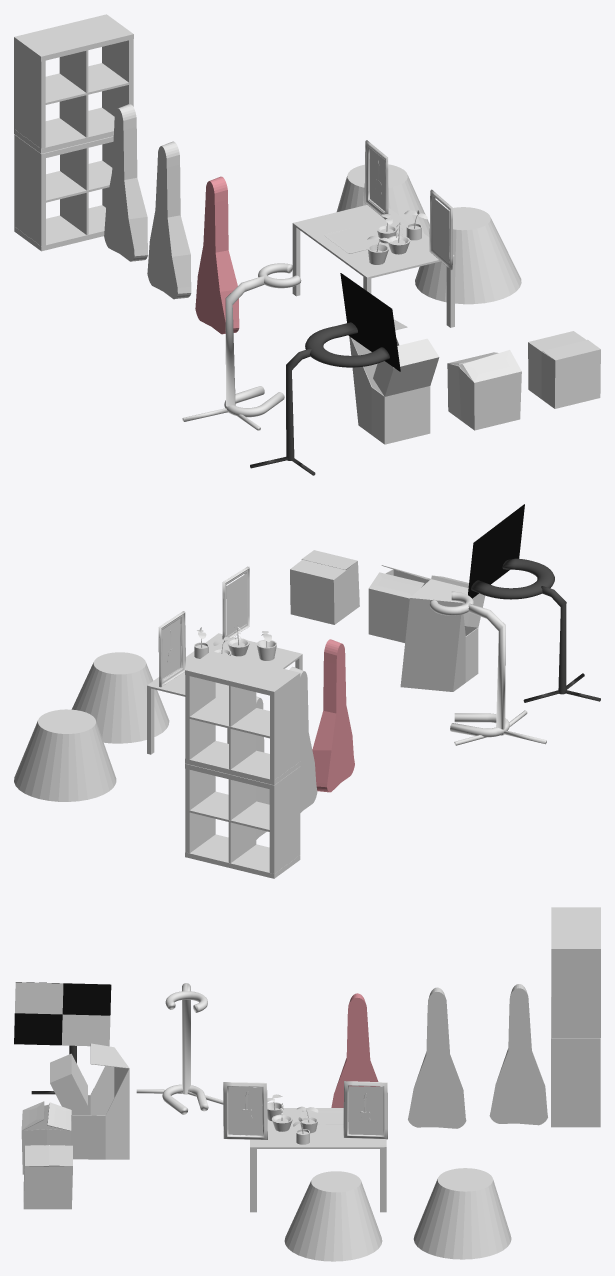
File: JAM1 Model.fbx
3 renders of one model, top to bottom at view 1: azimuth 30°, elevation 25°; view 2: azimuth 150°, elevation 25°; view 3: azimuth 270°, elevation 25°, orthographic. The views are drawn at different scales.
Parts seen in each view (by area): view 1: Shelf.001, BOX1, CHAIR, Music Stand, Cube, box2, CASE2, CASE3, Box3, case1, Guitar Stand, CHAIR.2 (+3 smaller); view 2: Shelf.001, CHAIR.2, BOX1, CHAIR, Music Stand, case1, Box3, Guitar Stand, box2, Cube, POSTER2, POSTER1 (+2 smaller); view 3: Shelf.001, CHAIR.2, BOX1, CHAIR, Music Stand, CASE2, CASE3, Cube, Box3, POSTER1, POSTER2, case1 (+3 smaller).
Part boxes in pixels (x1,y1,x2,y2): Shelf.001: (14, 14, 133, 251); BOX1: (349, 319, 439, 444); CHAIR: (415, 207, 521, 304); Music Stand: (250, 273, 400, 475); Cube: (292, 203, 454, 327); box2: (447, 350, 521, 430); CASE2: (147, 141, 191, 299); CASE3: (104, 104, 147, 261); Box3: (528, 331, 600, 408); case1: (195, 176, 239, 334); Guitar Stand: (182, 263, 301, 430); CHAIR.2: (336, 164, 429, 237); Shelf.001: (185, 651, 300, 878); CHAIR.2: (14, 709, 116, 801); BOX1: (400, 575, 485, 691); CHAIR: (71, 652, 169, 743); Music Stand: (468, 504, 600, 702); case1: (312, 639, 354, 792); Box3: (290, 550, 359, 624); Guitar Stand: (429, 591, 546, 745); box2: (368, 565, 430, 642); Cube: (147, 633, 302, 754); POSTER2: (158, 611, 185, 687); POSTER1: (222, 566, 249, 642); Shelf.001: (551, 907, 600, 1127); CHAIR.2: (413, 1168, 511, 1259); BOX1: (50, 1043, 129, 1159); CHAIR: (284, 1171, 382, 1261); Music Stand: (14, 982, 111, 1094); CASE2: (408, 987, 466, 1128); CASE3: (489, 984, 547, 1125); Cube: (250, 1108, 386, 1212); Box3: (23, 1145, 72, 1209); POSTER1: (223, 1082, 267, 1139); POSTER2: (343, 1081, 387, 1139); case1: (331, 993, 379, 1107).
Size of the model in its own units: 937 by 476 by 1264.
